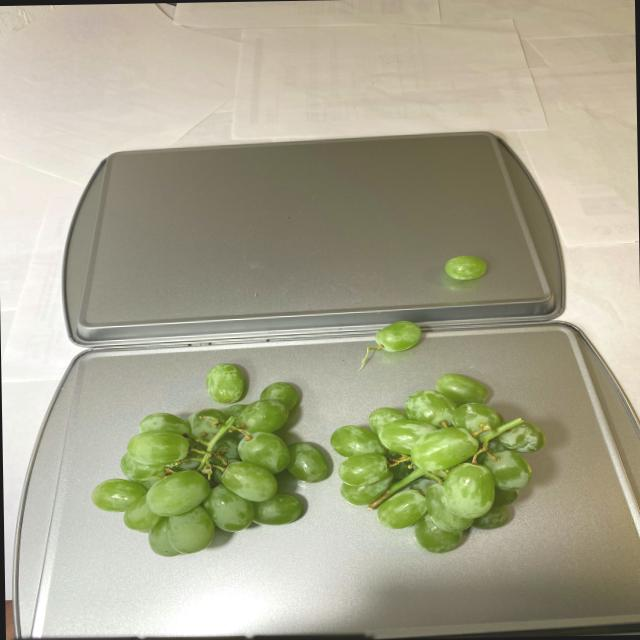grapes: (83, 359, 550, 564), (368, 317, 428, 358), (439, 252, 494, 282)
